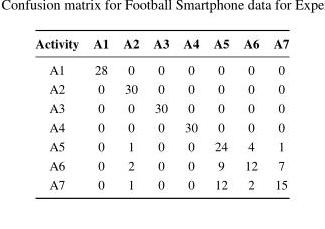table: (34, 34, 288, 192)
table column: (34, 34, 85, 192), (85, 34, 115, 192), (115, 34, 145, 192), (145, 34, 175, 192), (175, 34, 205, 192), (205, 34, 235, 192), (235, 34, 265, 192), (265, 34, 288, 192)
table column header: (34, 34, 288, 56)
table row: (34, 56, 288, 79), (34, 34, 288, 56), (34, 79, 288, 98), (34, 98, 288, 117), (34, 117, 288, 136), (34, 136, 288, 155), (34, 155, 288, 174), (34, 174, 288, 192)
